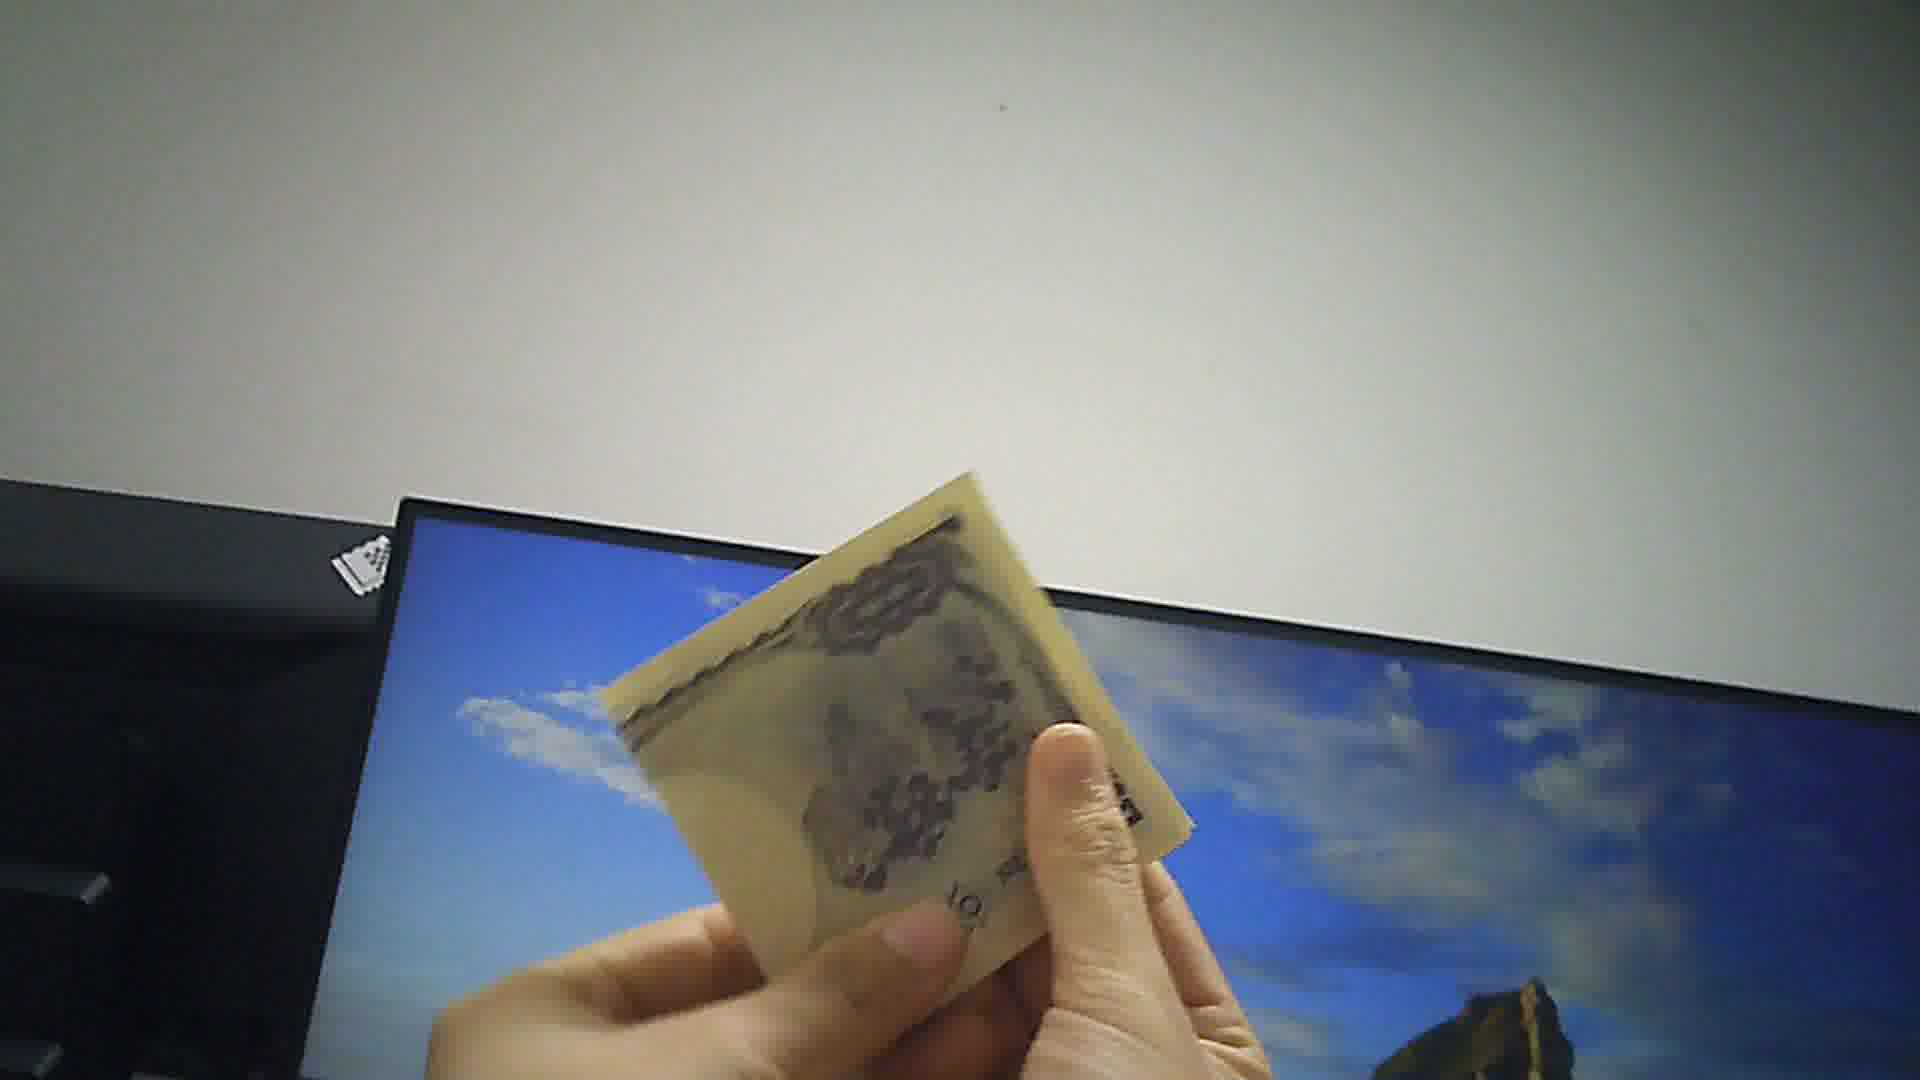5,000 Yen: (592, 483, 1203, 1029)
